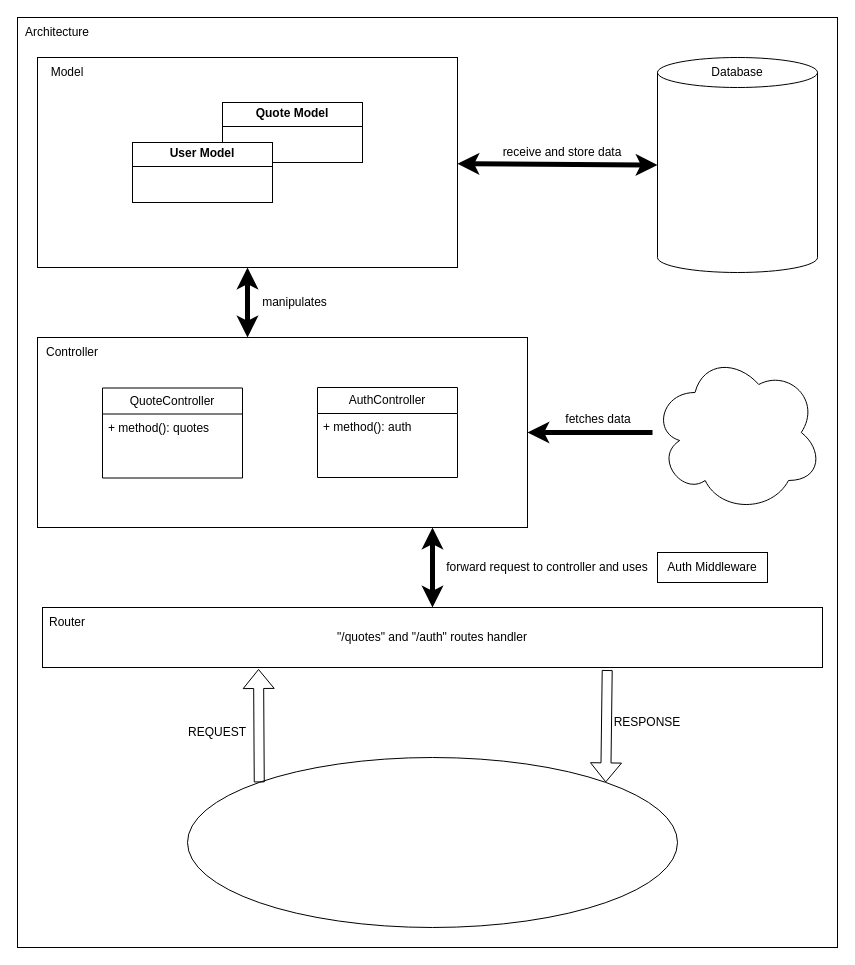
The diagram is 855 pixels wide and 965 high, and some of its shapes have lost their labels. The shapes that lost their labels are listed below. From the top down, each one's box as (x1, y1, x2, y2) in pixels, then its label:
(656, 56, 818, 272): - users - quotes - personal_tokens ...
(652, 352, 822, 512): Simpsons-API
(186, 756, 678, 928): Angular/Vue/React Frontend
